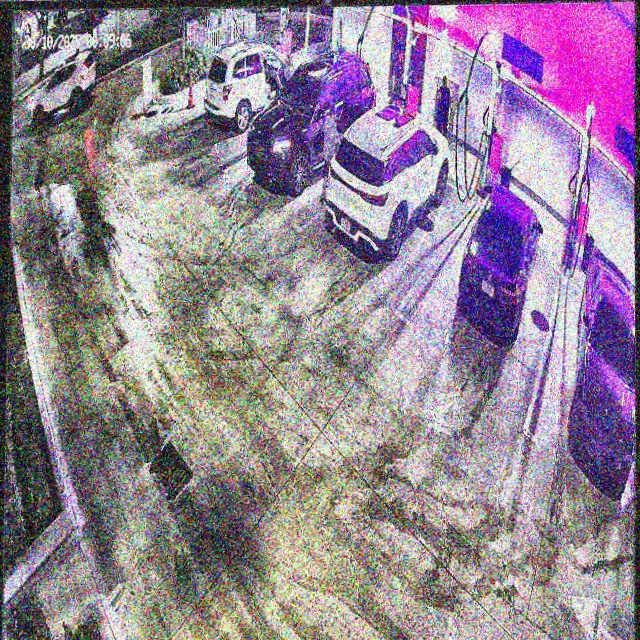Car: (327, 103, 453, 266), (246, 52, 377, 186), (458, 186, 546, 350)
